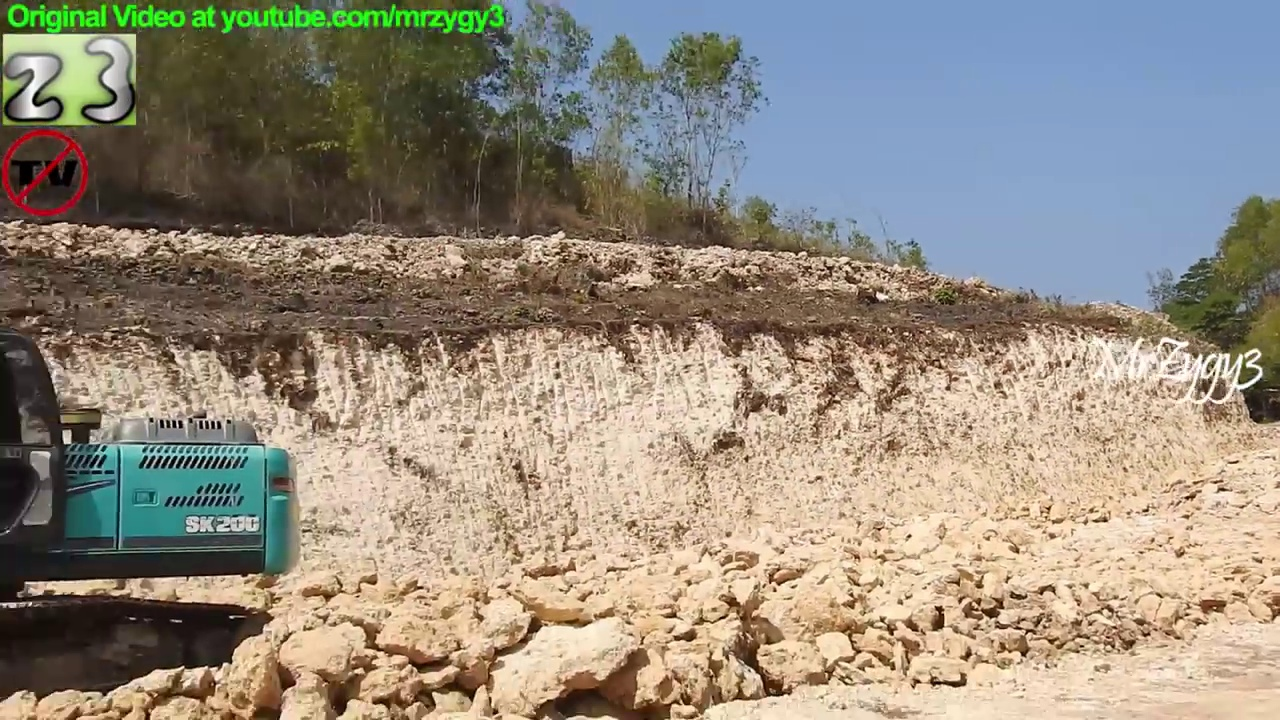excavator: (1, 325, 307, 712)
